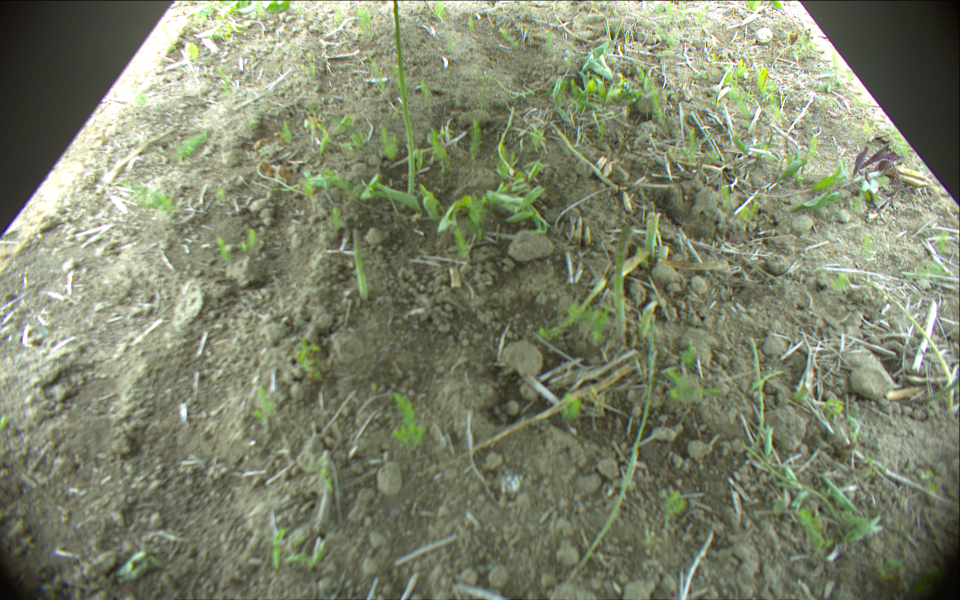aspa: (859, 279, 957, 403), (392, 1, 416, 197), (610, 223, 633, 340), (353, 227, 369, 301), (925, 376, 960, 404), (642, 211, 661, 261), (639, 300, 657, 339)
